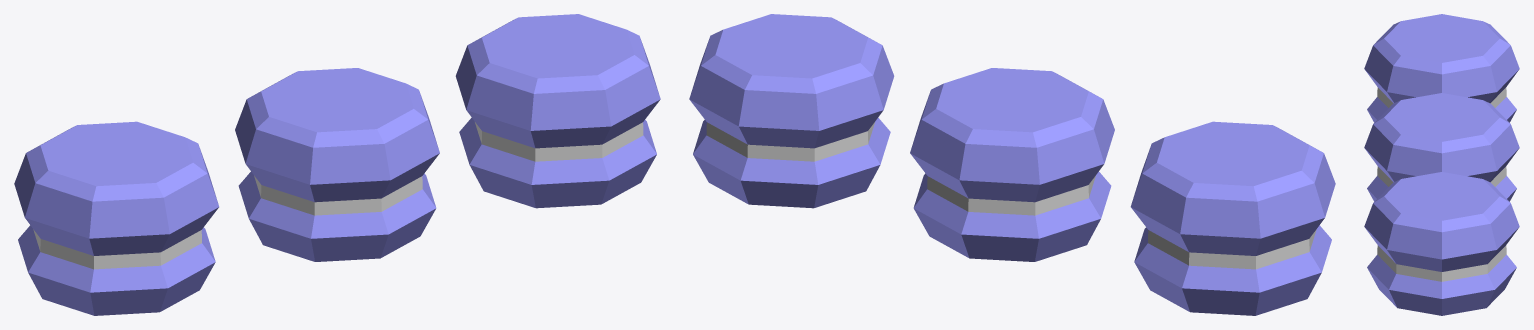
Rendered from Macaron_1.fbx.
3 renders of one model, left to right at view 1: azimuth 30°, elevation 25°; view 2: azimuth 150°, elevation 25°; view 3: azimuth 270°, elevation 25°, orthographic. The views are drawn at different scales.
Visible parts, largest first — view 1: Macaron_1; view 2: Macaron_1; view 3: Macaron_1.
Part boxes in pixels (left/top/right/bottom): Macaron_1: left=14, top=14, right=660, bottom=315; Macaron_1: left=689, top=14, right=1335, bottom=315; Macaron_1: left=1364, top=14, right=1519, bottom=315.
Size of the model in its own units: 27.63 by 5.36 by 8.13.
